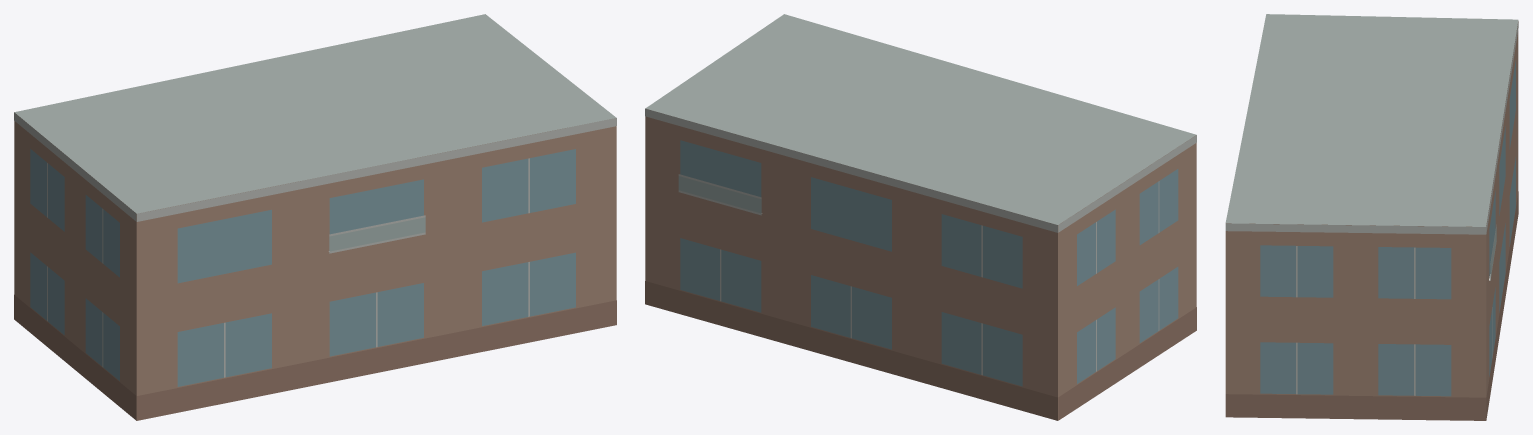
File: survey-upis-32667887.glb
3 views of the same model, side by side, from view 1: azimuth 30°, elevation 25°; view 2: azimuth 150°, elevation 25°; view 3: azimuth 270°, elevation 25° (orthographic). The views are drawn at different scales.
Visible parts, largest first — view 1: survey-upis-32667887.tmp; view 2: survey-upis-32667887.tmp; view 3: survey-upis-32667887.tmp.
Boxes of the visible parts, box(x1,y1,x2,y2) form: survey-upis-32667887.tmp: box(14, 14, 616, 420); survey-upis-32667887.tmp: box(645, 14, 1196, 420); survey-upis-32667887.tmp: box(1225, 14, 1518, 420).
Size of the model in its own units: 14.38 by 6.1 by 8.37.
